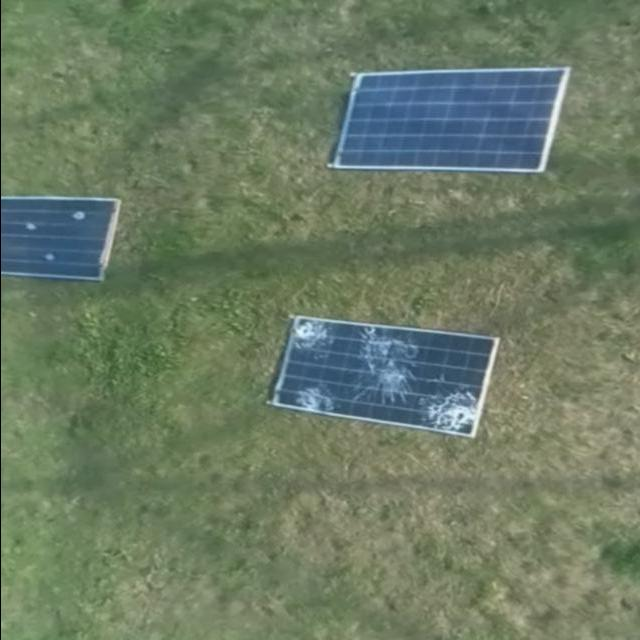cracked: (256, 304, 505, 438)
soiled: (0, 177, 115, 291)
